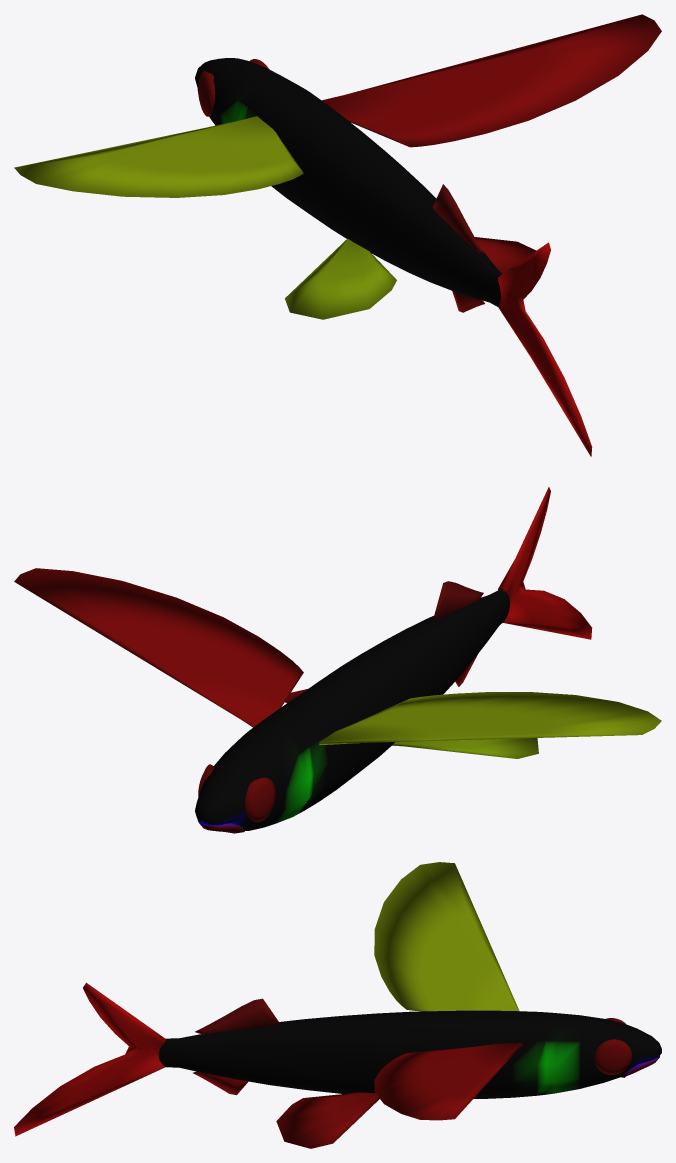
File: flying_fish_game.glb
3 views of the same model, one above another, from view 1: azimuth 30°, elevation 25°; view 2: azimuth 150°, elevation 25°; view 3: azimuth 270°, elevation 25° (orthographic). The views are drawn at different scales.
Parts seen in each view (by area): view 1: flying_fish_game; view 2: flying_fish_game; view 3: flying_fish_game.
Boxes of the visible parts, x1,y1,x2,y2 form: flying_fish_game: (14, 14, 661, 456); flying_fish_game: (14, 487, 661, 833); flying_fish_game: (14, 862, 661, 1148).
Size of the model in its own units: 0.2827 by 0.0786 by 0.2996.
